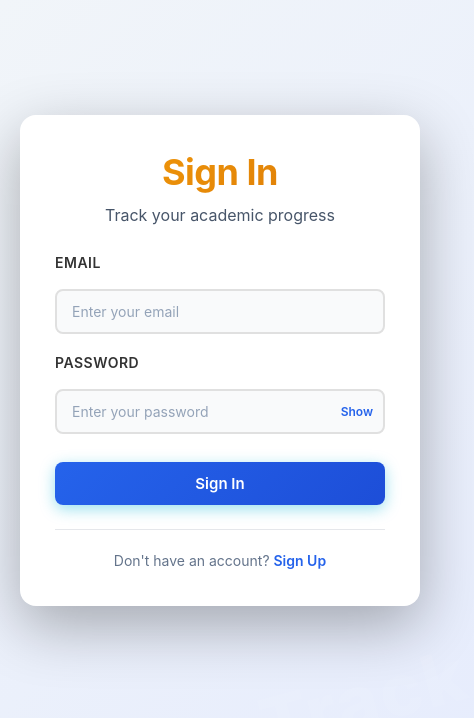
Scenario: Login Component › should display error message with invalid credentials
This screenshot has width=474, height=718.
Fill in the form with wrong credentials
In the field with placeholder "Enter your email": (220, 311) [55, 288, 385, 334], type "wrong@example.com"
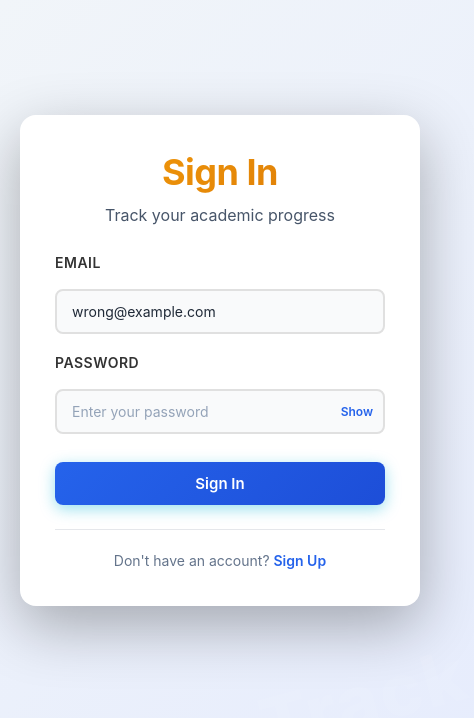
In the password field with placeholder "Enter your password": (220, 411) [55, 388, 385, 434], type "wrongpassword"
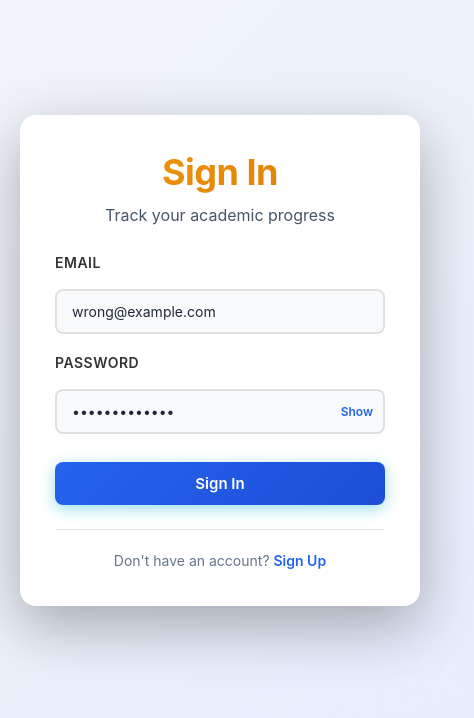
Submit the form
Click the button "Sign In": (220, 483) [55, 462, 385, 504]
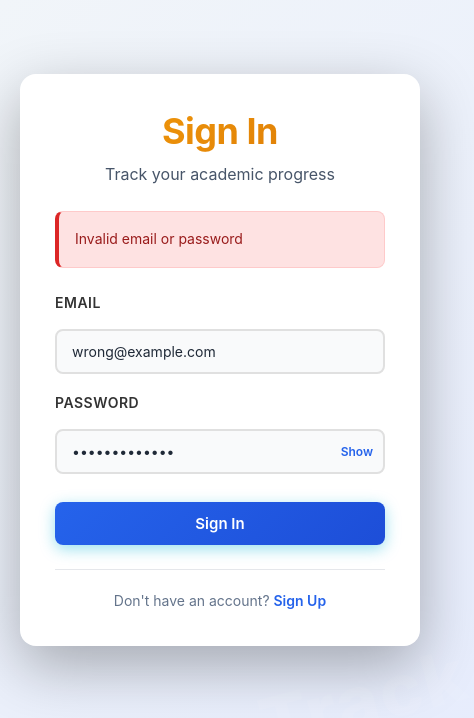
Result: the text "Invalid email or password" is shown at [55, 211, 385, 268]
